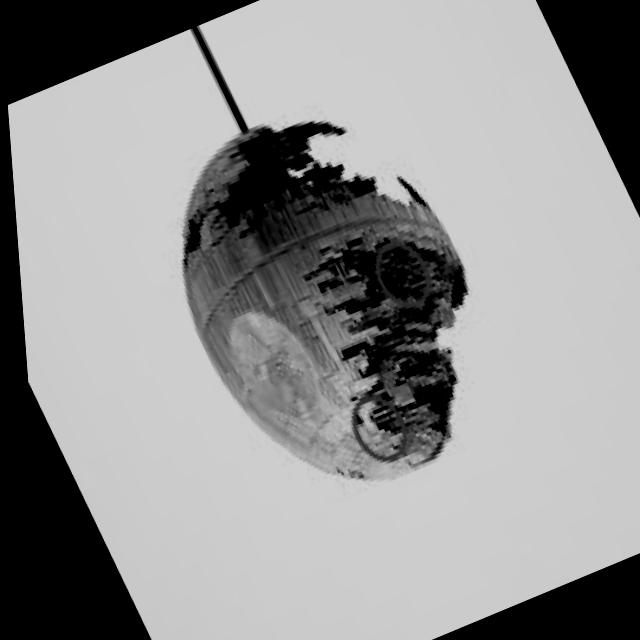death-stars: (177, 117, 462, 480)
